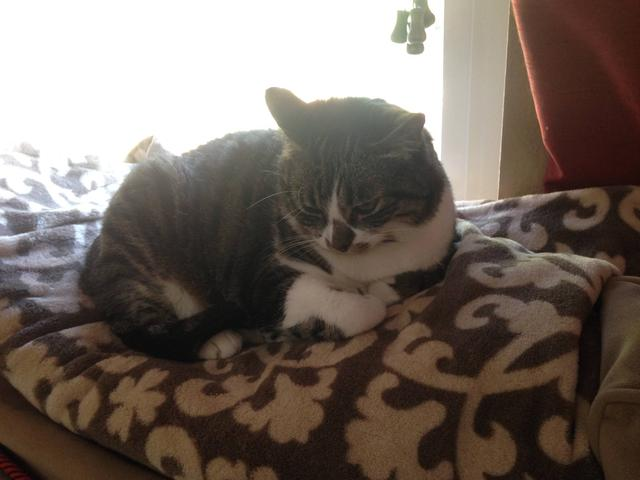playdoh: (74, 87, 453, 378)
